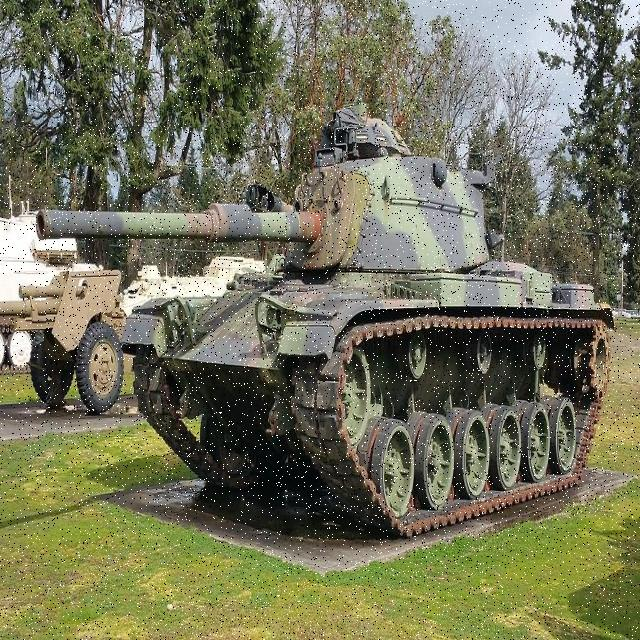MIL_MBT: (47, 127, 625, 508)
